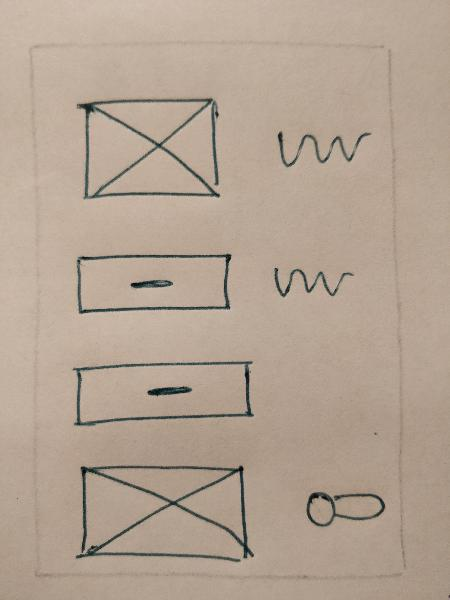image: (72, 460, 258, 569), (72, 90, 231, 208)
switch: (296, 477, 387, 537)
text: (263, 257, 359, 312), (269, 121, 372, 171)
text_input: (65, 357, 266, 437), (67, 244, 239, 321)
